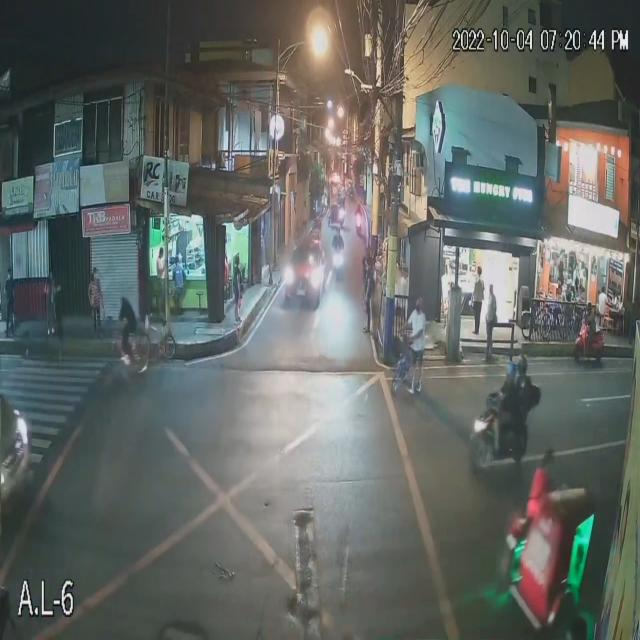Full-Faced: (516, 352, 531, 385), (504, 360, 516, 385)
